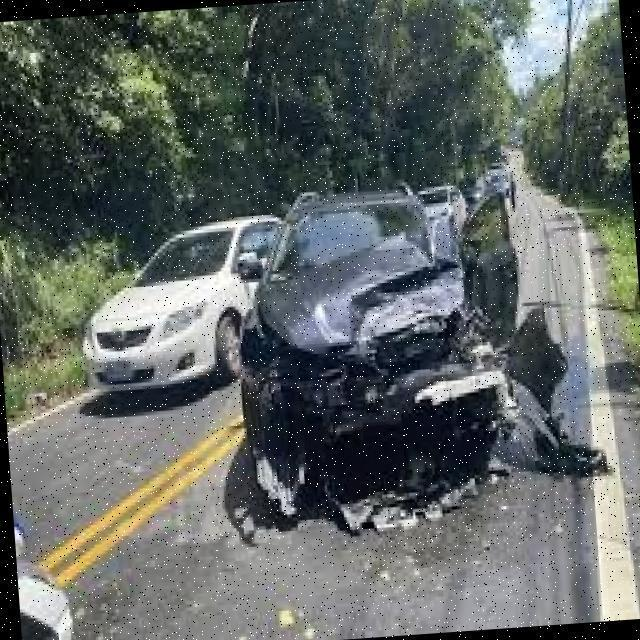accident: (234, 222, 612, 554)
